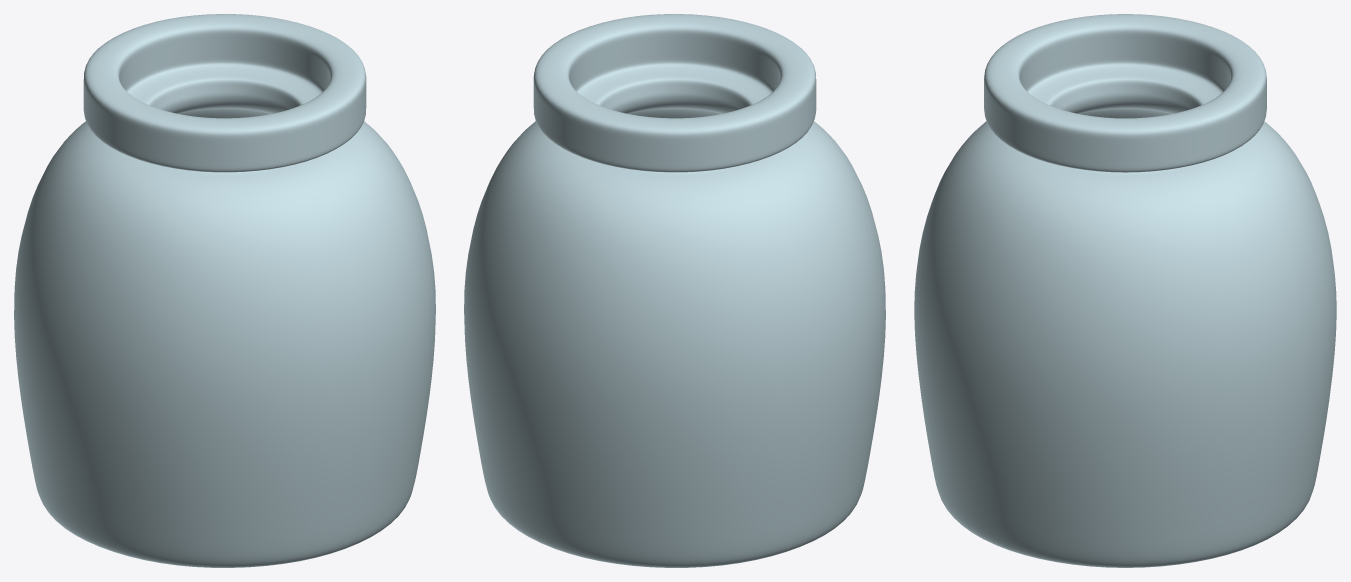
The model's file is Bottle.fbx.
3 renders of one model, left to right at view 1: azimuth 30°, elevation 25°; view 2: azimuth 150°, elevation 25°; view 3: azimuth 270°, elevation 25°, orthographic.
Parts seen in each view (by area): view 1: Bottle For Export Final; view 2: Bottle For Export Final; view 3: Bottle For Export Final.
Part boxes in pixels (x1,y1,x2,y2): Bottle For Export Final: (14, 14, 435, 567); Bottle For Export Final: (464, 14, 885, 567); Bottle For Export Final: (914, 14, 1336, 567).
Size of the model in its own units: 171 by 189 by 171.
